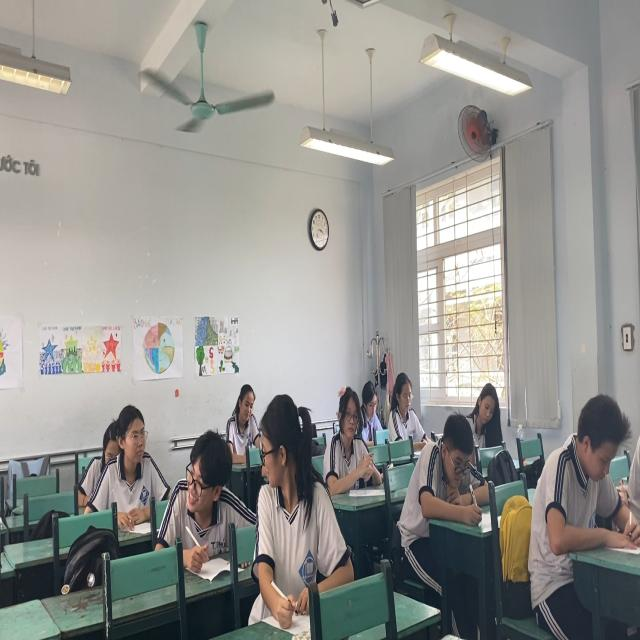cheating: (257, 388, 329, 582), (168, 427, 251, 568)
not_cheating: (519, 395, 634, 557), (92, 395, 163, 513), (413, 416, 483, 516), (327, 388, 377, 488), (391, 368, 428, 443), (236, 378, 264, 453), (467, 385, 502, 444), (358, 368, 381, 432)
